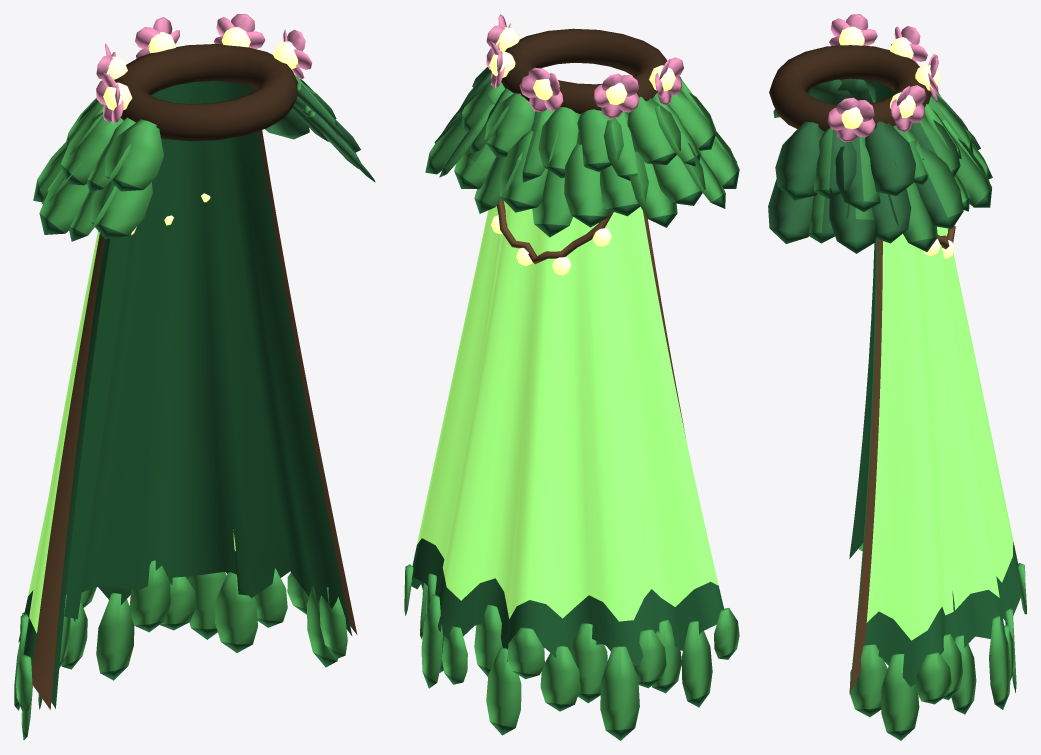
File: c_verdant.glb
3 renders of one model, left to right at view 1: azimuth 30°, elevation 25°; view 2: azimuth 150°, elevation 25°; view 3: azimuth 270°, elevation 25°, orthographic. The views are drawn at different scales.
Parts seen in each view (by area): view 1: ClothMesh, BackMesh; view 2: ClothMesh, BackMesh; view 3: ClothMesh, BackMesh.
Part boxes in pixels (bbox=[...]): ClothMesh: bbox=[14, 81, 357, 740]; BackMesh: bbox=[33, 14, 375, 241]; ClothMesh: bbox=[404, 198, 739, 740]; BackMesh: bbox=[425, 14, 739, 237]; ClothMesh: bbox=[849, 82, 1026, 740]; BackMesh: bbox=[768, 14, 992, 253].
Size of the model in its own units: 0.7683 by 1.55 by 0.5715.
